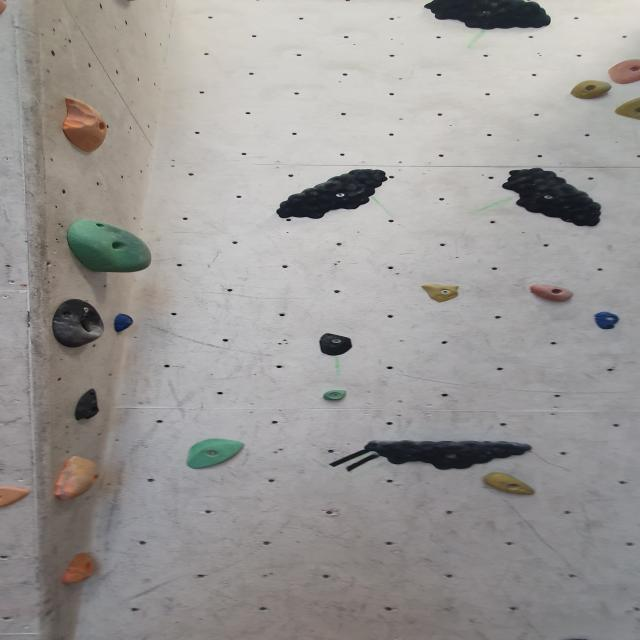Crimp: (182, 438, 247, 472), (59, 552, 99, 586), (315, 332, 362, 359), (526, 282, 578, 304), (417, 281, 463, 303), (0, 485, 34, 512), (592, 311, 622, 331), (323, 388, 351, 400)
Jug: (500, 168, 610, 232), (270, 166, 389, 223), (356, 432, 534, 468), (416, 0, 556, 32), (605, 58, 640, 89), (564, 78, 613, 100), (613, 95, 640, 124)
Pinch: (59, 98, 110, 157), (50, 455, 103, 501), (480, 469, 540, 498)
Pocket: (50, 297, 110, 349)
Sloper: (65, 220, 155, 274)
